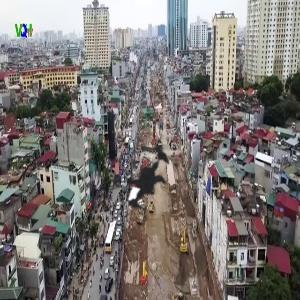drone: (90, 122, 197, 229)
